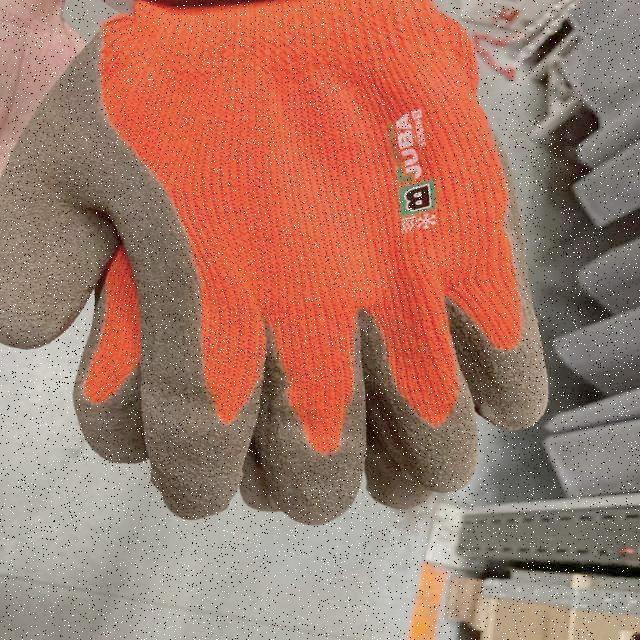Gloves: (1, 2, 557, 526)
